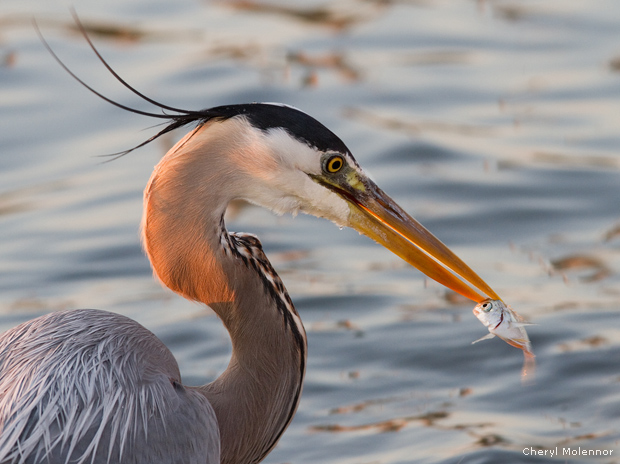heron: (1, 100, 516, 463)
